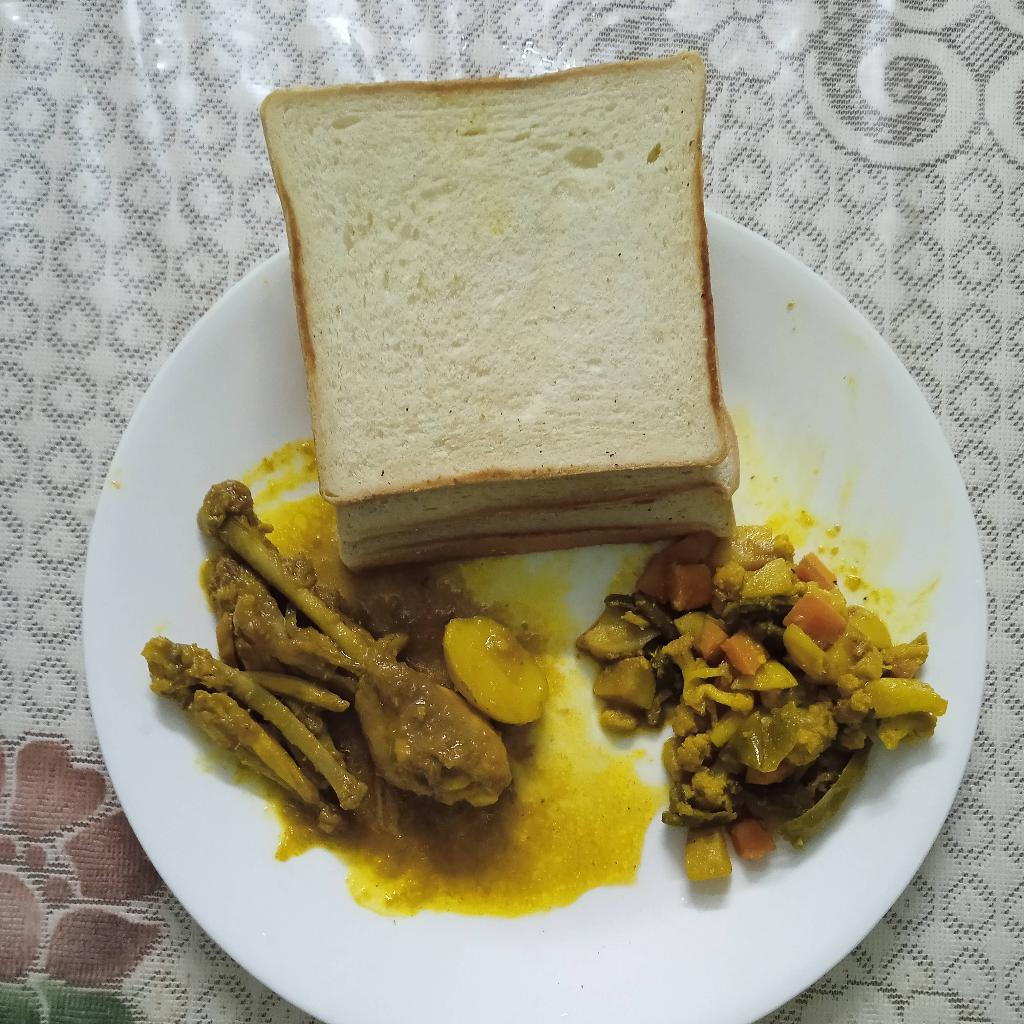bread: (256, 54, 739, 570)
chicken: (148, 480, 553, 826)
vegetable: (579, 525, 948, 881)
